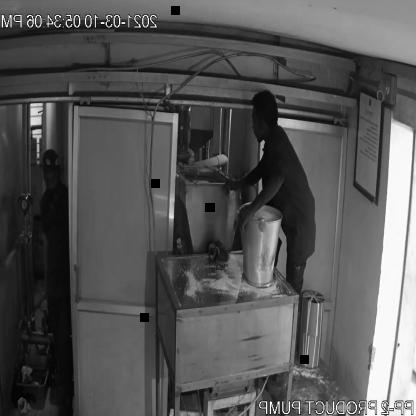no_glove: (232, 160, 291, 238)
